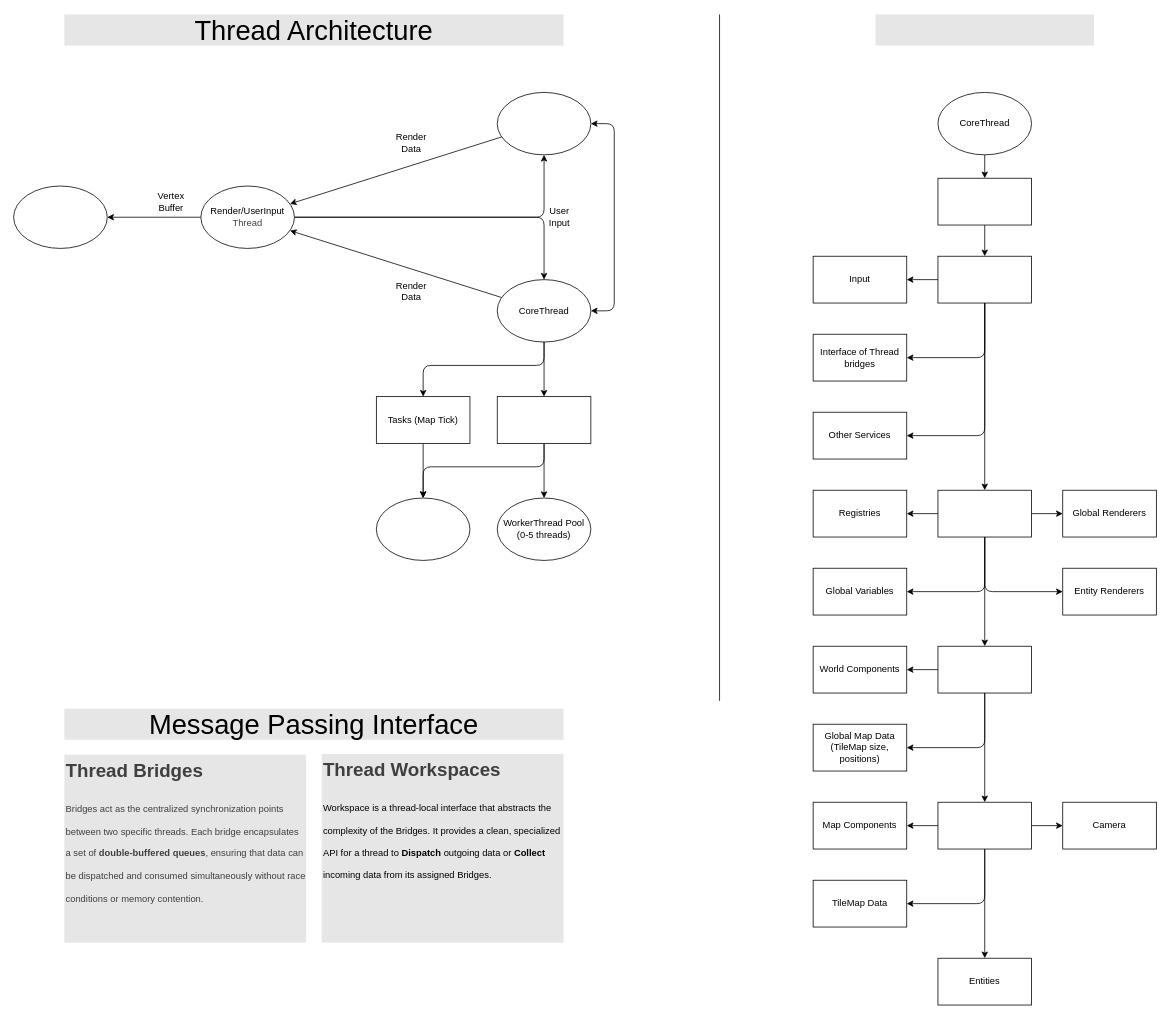
Image size: 1170x1019. Some labels were removed from this diagram. The shapes that lost their labels are listed below. From the top down, each one's centre as x and y in pixels, then its label:
At [984,29]: "Ownership".
At [543,123]: "UI Thread".
At [60,216]: "GPU".
At [984,201]: "Workspace".
At [984,279]: "Services".
At [543,419]: "Tasks".
At [423,528]: "Dedicated WorkerThread".
At [984,513]: "Universe".
At [984,669]: "Worlds".
At [984,825]: "Map".
